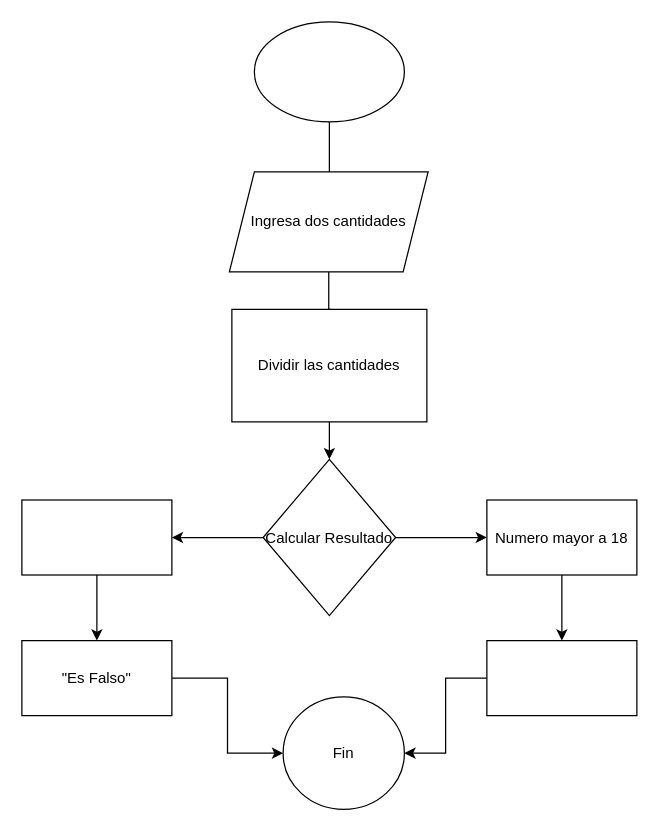
The diagram is 659 pixels wide and 831 high, and some of its shapes have lost their labels. The centre of each missing label's shape, as x and y in pixels:
"Es Verdadero": pixel 561 677
Inicio: pixel 328 71
Numero menor a 18: pixel 96 537
